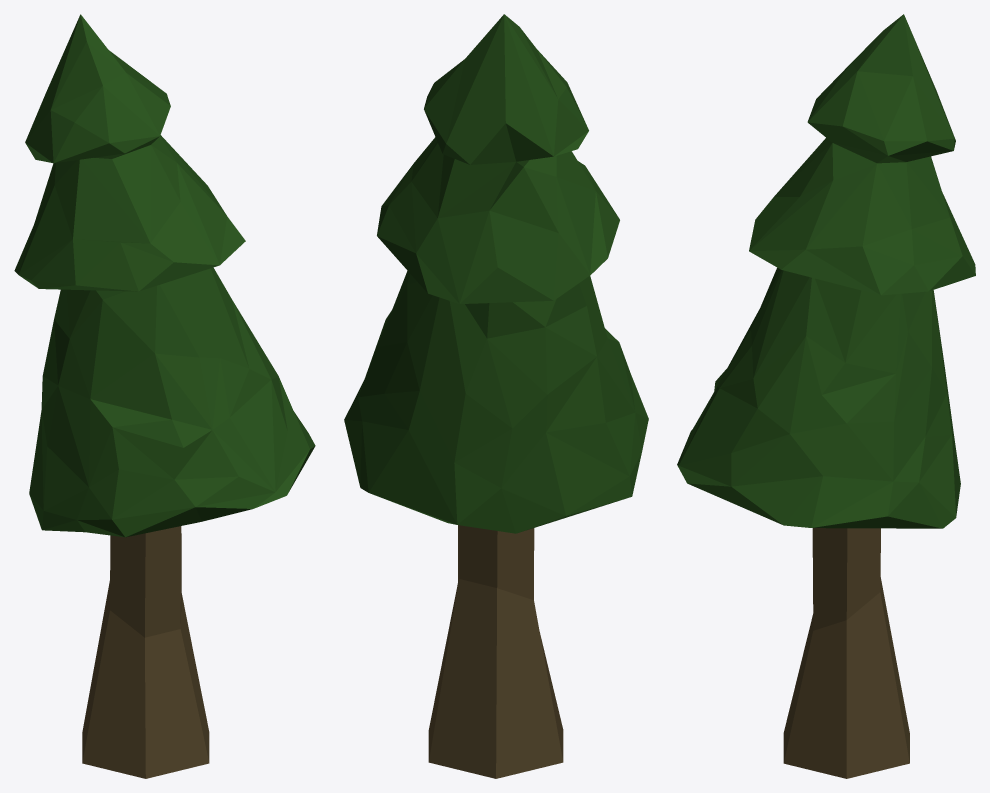
The model's file is PineTree2.fbx.
The picture shows the model from 3 angles, left to right: view 1: azimuth 30°, elevation 25°; view 2: azimuth 150°, elevation 25°; view 3: azimuth 270°, elevation 25°; orthographic projection. The views are drawn at different scales.
Visible parts, largest first — view 1: Tree4; view 2: Tree4; view 3: Tree4.
Boxes of the visible parts, box(x1,y1,x2,y2) form: Tree4: box(14, 14, 315, 778); Tree4: box(344, 14, 648, 778); Tree4: box(677, 14, 975, 778).
Bounding box in the file's own units: 1.9 × 5.02 × 1.9.
